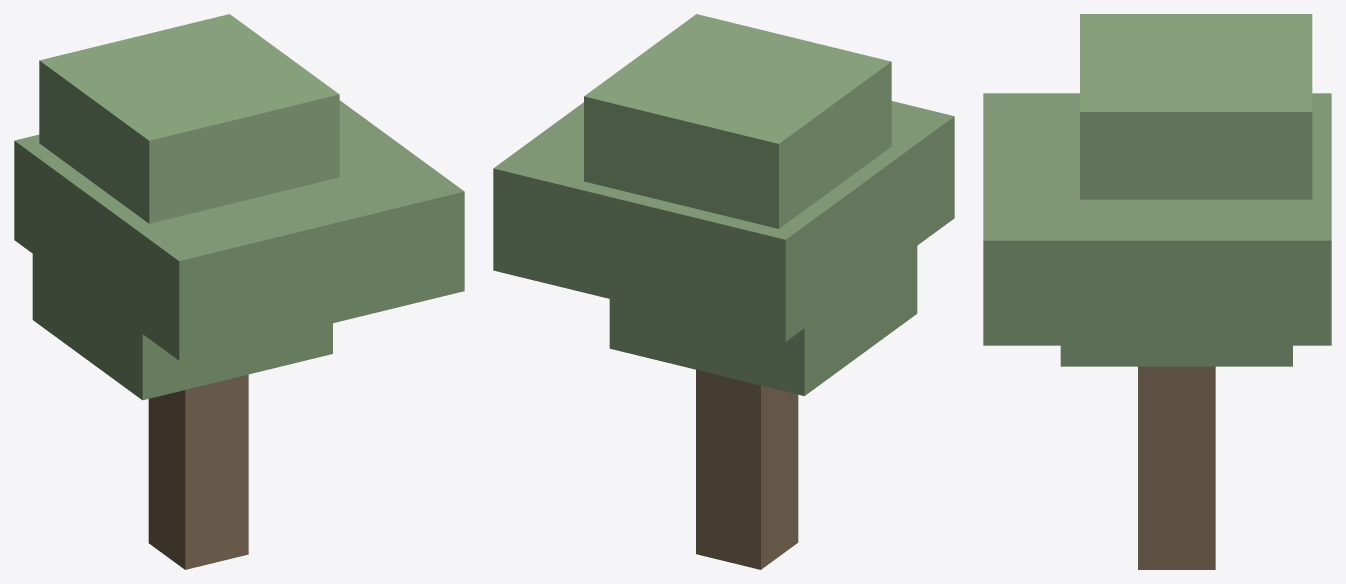
Rendered from arbol_joven_01.glb.
The picture shows the model from 3 angles, left to right: view 1: azimuth 30°, elevation 25°; view 2: azimuth 150°, elevation 25°; view 3: azimuth 270°, elevation 25°; orthographic projection. The views are drawn at different scales.
Parts seen in each view (by area): view 1: arbol_joven_01; view 2: arbol_joven_01; view 3: arbol_joven_01.
Part boxes in pixels (box(x1,y1,x2,y2)): arbol_joven_01: box(14, 14, 464, 569); arbol_joven_01: box(493, 14, 954, 569); arbol_joven_01: box(983, 14, 1331, 569).
Size of the model in its own units: 1.8 by 2.8 by 1.8.
